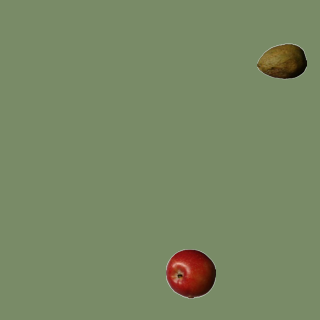Apple Braeburn: (165, 248, 215, 298)
Papaya: (256, 36, 306, 86)
